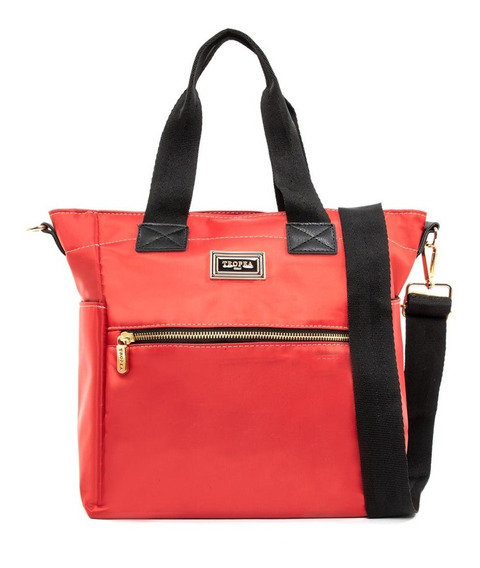cartera: (32, 28, 451, 519)
